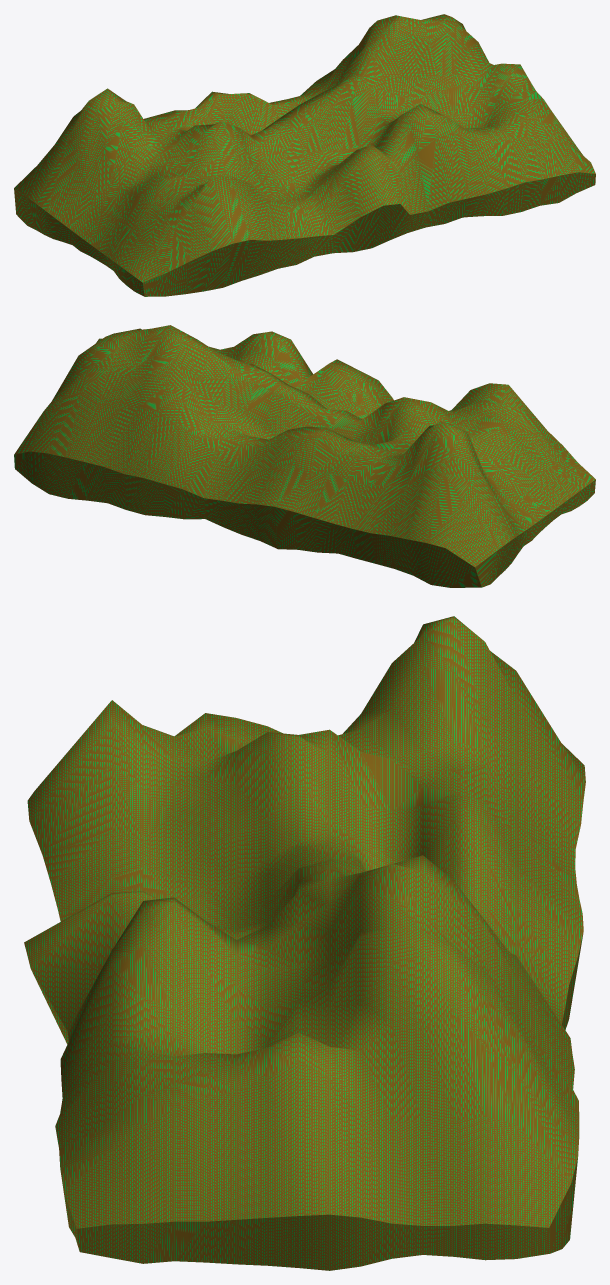
File: mountain.fbx
The picture shows the model from 3 angles, top to bottom: view 1: azimuth 30°, elevation 25°; view 2: azimuth 150°, elevation 25°; view 3: azimuth 270°, elevation 25°; orthographic projection. The views are drawn at different scales.
Visible parts, largest first — view 1: Box001; view 2: Box001; view 3: Box001.
Part boxes in pixels (x1=…): Box001: x1=14, y1=14, x2=595, y2=296; Box001: x1=14, y1=325, x2=595, y2=587; Box001: x1=24, y1=616, x2=585, y2=1270.
Size of the model in its own units: 4269 by 1333 by 2168.
Materials: 1 (1 with a texture image).
